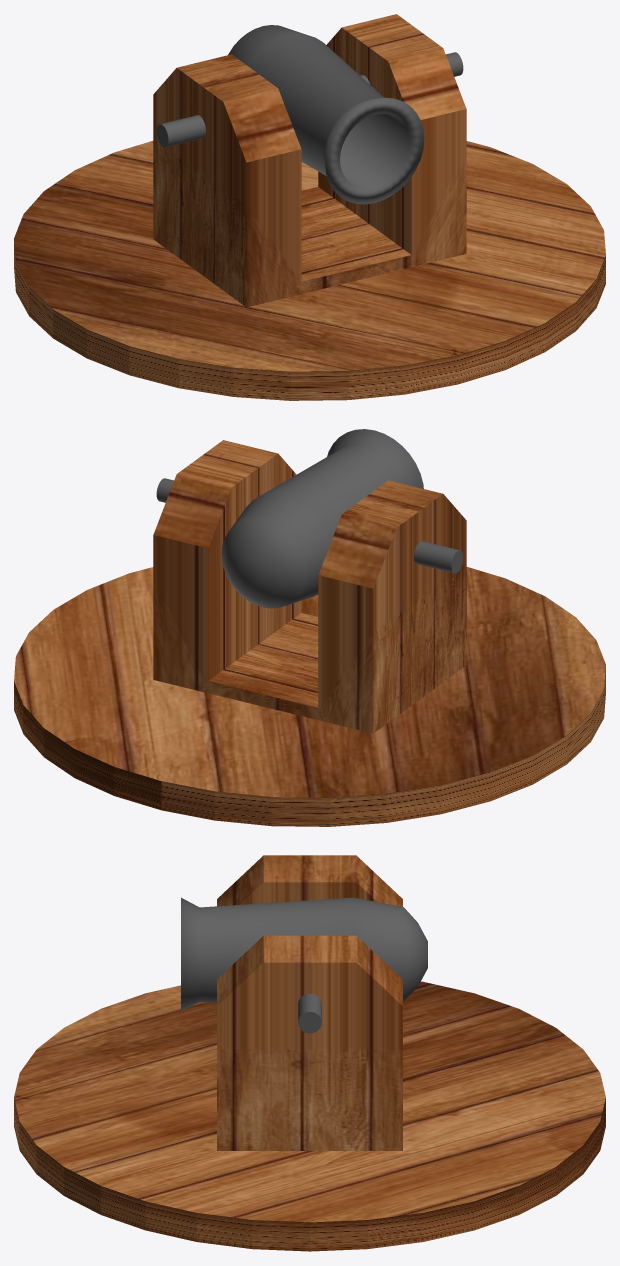
Rendered from cannon.fbx.
The picture shows the model from 3 angles, top to bottom: view 1: azimuth 30°, elevation 25°; view 2: azimuth 150°, elevation 25°; view 3: azimuth 270°, elevation 25°; orthographic projection.
Visible parts, largest first — view 1: Cylinder, Cube, Cylinder.001, Cylinder.002; view 2: Cylinder, Cube, Cylinder.001, Cylinder.002; view 3: Cylinder, Cube, Cylinder.001, Cylinder.002.
Boxes of the visible parts, x1,y1,x2,y2 form: Cylinder: [14, 141, 605, 400]; Cube: [153, 14, 466, 307]; Cylinder.001: [228, 25, 424, 204]; Cylinder.002: [156, 52, 463, 147]; Cylinder: [14, 567, 605, 826]; Cube: [153, 440, 466, 733]; Cylinder.001: [221, 429, 423, 608]; Cylinder.002: [156, 478, 463, 573]; Cylinder: [14, 981, 605, 1251]; Cube: [217, 855, 402, 1150]; Cylinder.001: [181, 897, 427, 1011]; Cylinder.002: [298, 993, 321, 1033].
Size of the model in its own units: 499 by 208 by 499.
Materials: 3 (2 with a texture image).
